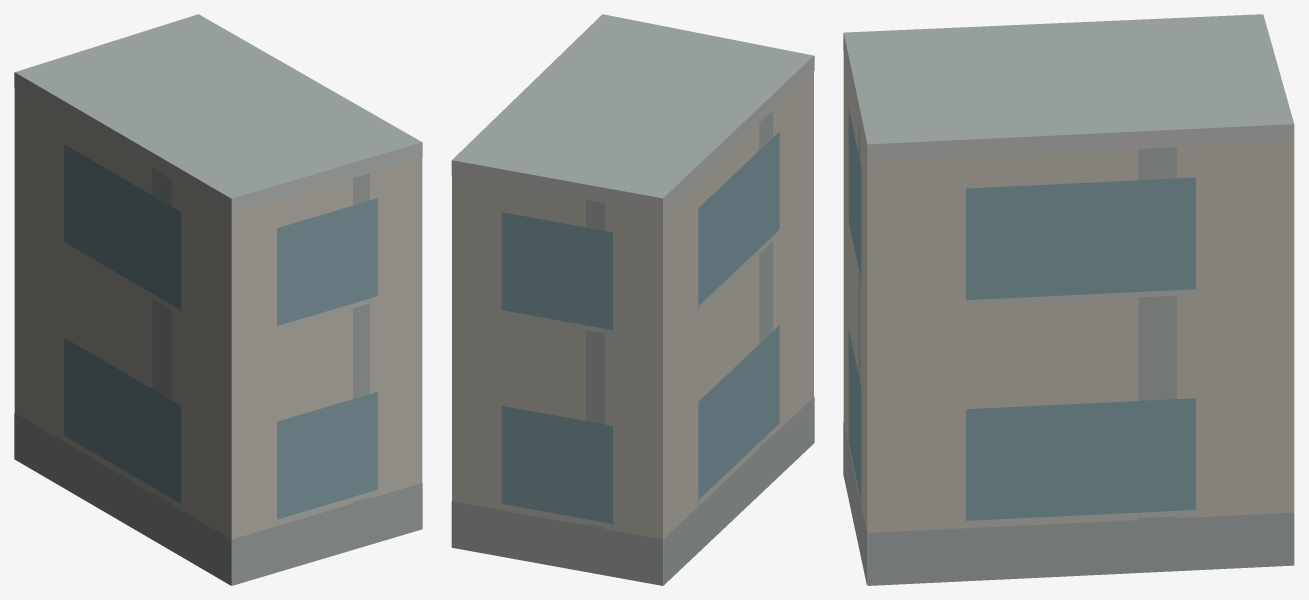
File: survey-upis-32573761.glb
3 views of the same model, side by side, from view 1: azimuth 30°, elevation 25°; view 2: azimuth 150°, elevation 25°; view 3: azimuth 270°, elevation 25° (orthographic). The views are drawn at different scales.
Parts seen in each view (by area): view 1: survey-upis-32573761.tmp; view 2: survey-upis-32573761.tmp; view 3: survey-upis-32573761.tmp.
Part boxes in pixels (box(x1,y1,x2,y2)): survey-upis-32573761.tmp: box(14, 14, 422, 585); survey-upis-32573761.tmp: box(451, 14, 814, 585); survey-upis-32573761.tmp: box(843, 14, 1294, 585).
Size of the model in its own units: 3.87 by 6.1 by 5.66.
